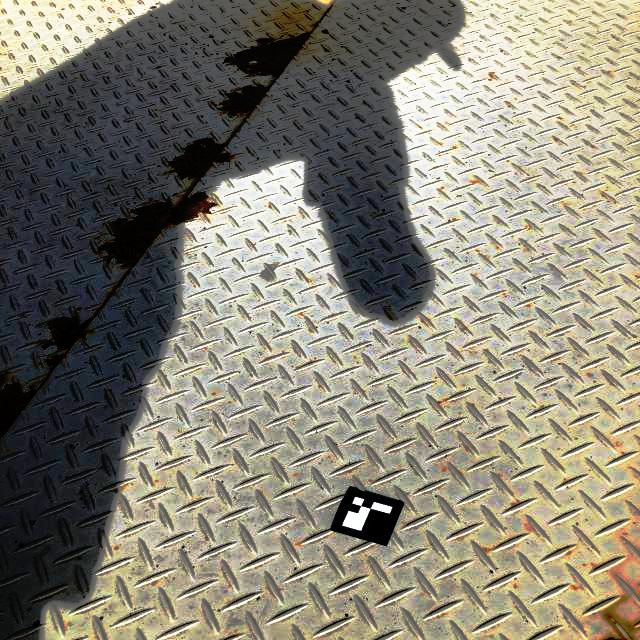Corrosion: (97, 192, 215, 267), (224, 31, 309, 77), (41, 316, 91, 371), (168, 138, 233, 179), (170, 138, 230, 178), (0, 383, 35, 435), (217, 84, 269, 115), (600, 606, 639, 640), (0, 372, 6, 391)
